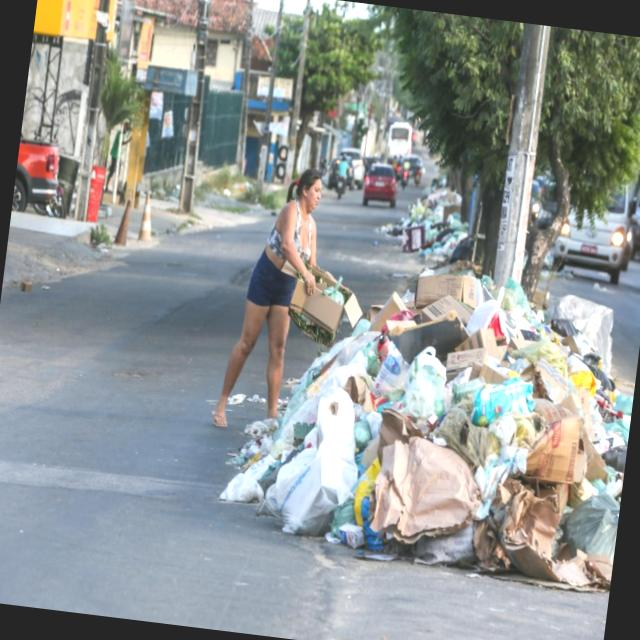garbage: (227, 251, 640, 586)
